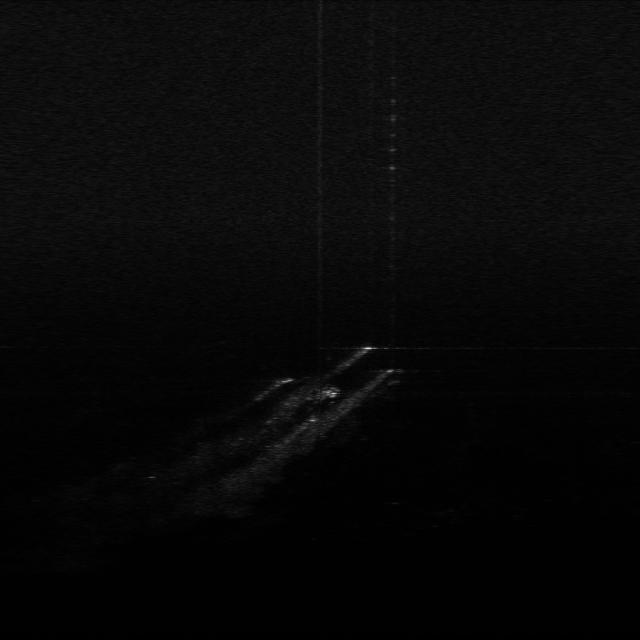rov: (319, 386, 343, 402)
